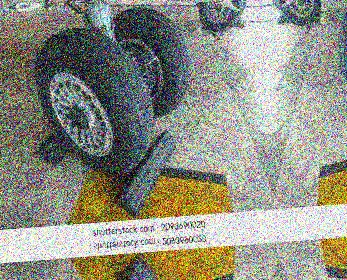chock: (109, 128, 182, 220), (34, 122, 85, 167), (118, 252, 192, 280), (233, 16, 249, 30), (274, 13, 290, 26)
wheel: (31, 26, 152, 179), (109, 4, 193, 121), (197, 0, 247, 32), (274, 0, 323, 27)
